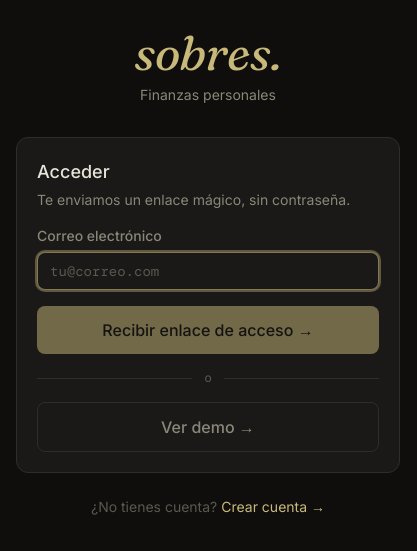
Test: LoginPage › shows rate limit message on 429 magic link error
Type "user@test.com" into the field labelled "Correo electrónico". click: (208, 271)
box: [37,252,379,290]
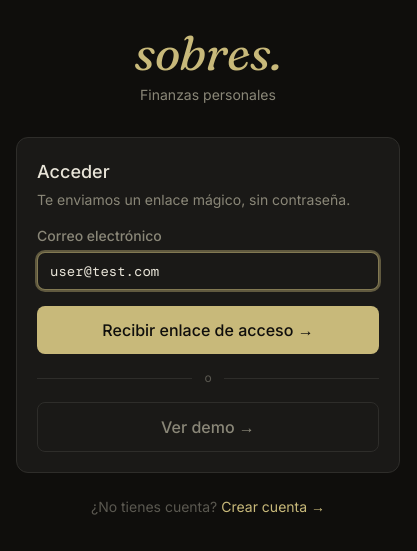
Click the button "Recibir enlace de acceso →". click: (208, 330)
box: [37,306,379,354]
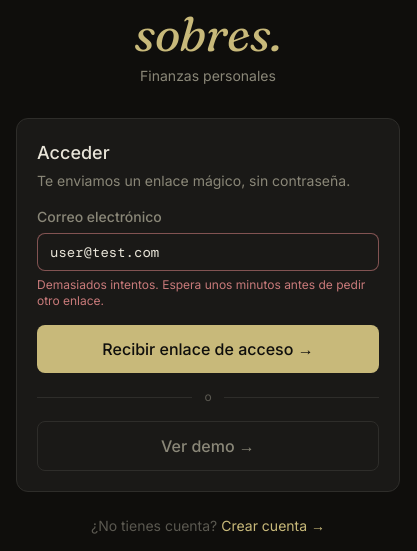
Check: the text "Demasiados intentos" is shown, box [37,277,365,308]
